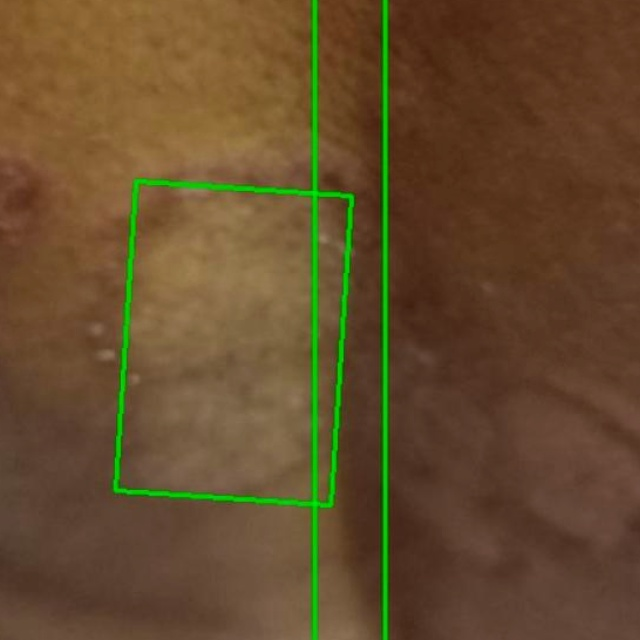Tinea Corporis: (0, 0, 385, 639), (315, 0, 639, 639), (114, 182, 350, 506)
